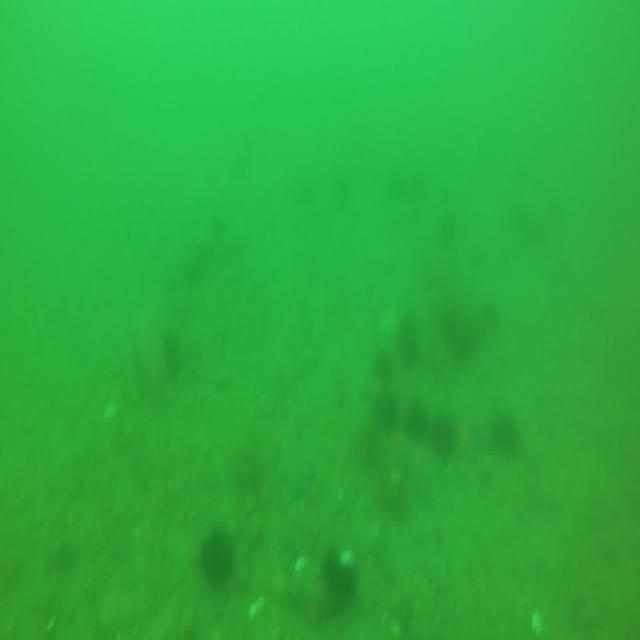echinus: (444, 297, 477, 364), (198, 533, 235, 588), (322, 544, 356, 598), (430, 405, 457, 459), (405, 393, 430, 438), (494, 408, 516, 454), (396, 318, 420, 358), (374, 392, 398, 428), (374, 348, 390, 383)
scallop: (529, 610, 545, 636), (247, 598, 268, 614), (338, 548, 354, 566), (293, 558, 308, 572)
